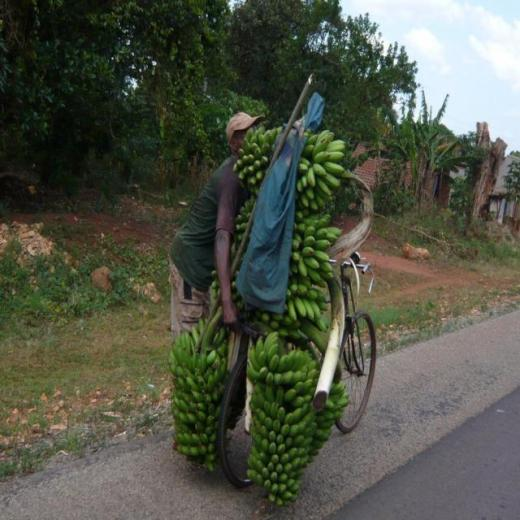Banana: (164, 121, 349, 505), (305, 165, 317, 188)
